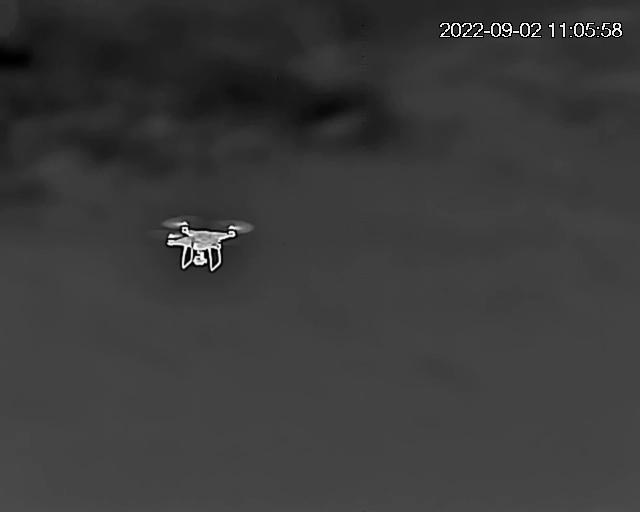DJI-Phantom: (160, 216, 253, 272)
